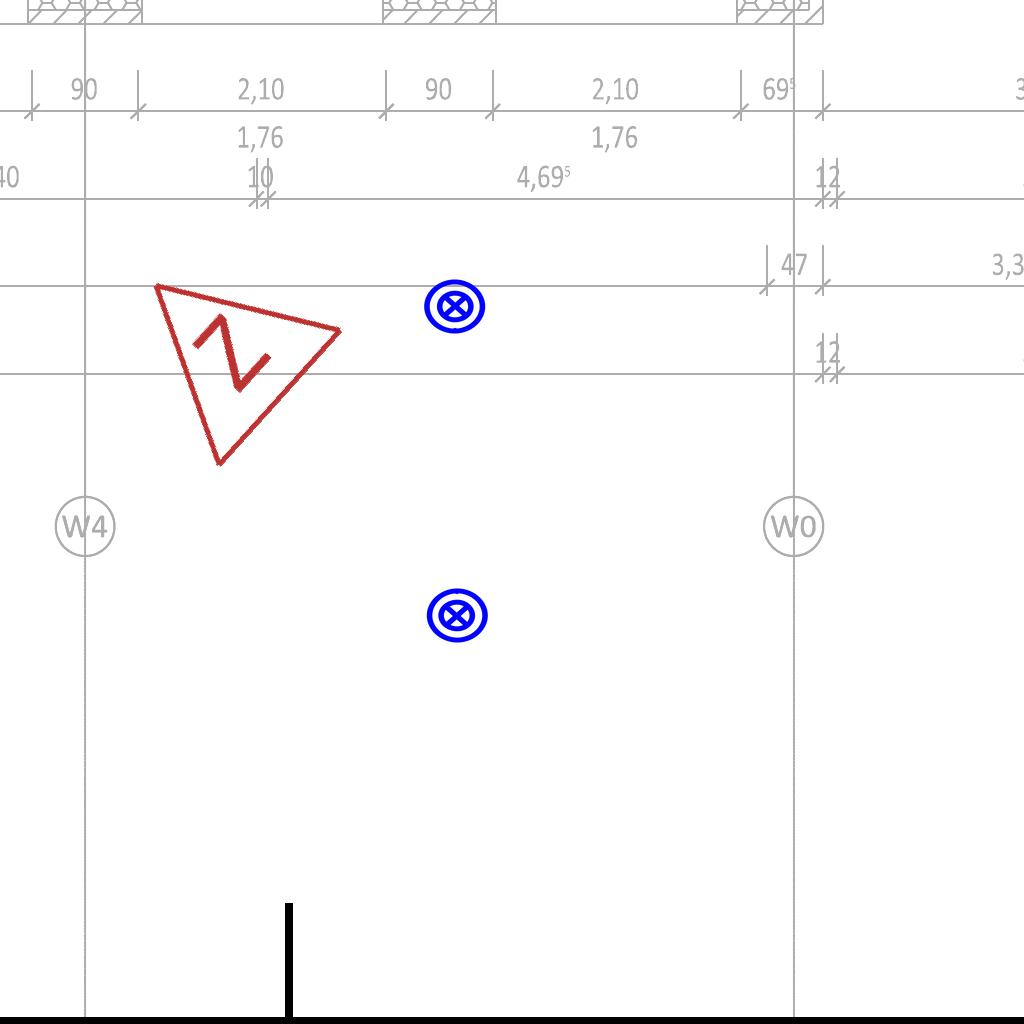Taster_beleuchtet: (422, 273, 488, 339), (424, 583, 490, 649)
Zimmersignalleuchte: (77, 204, 357, 484)
